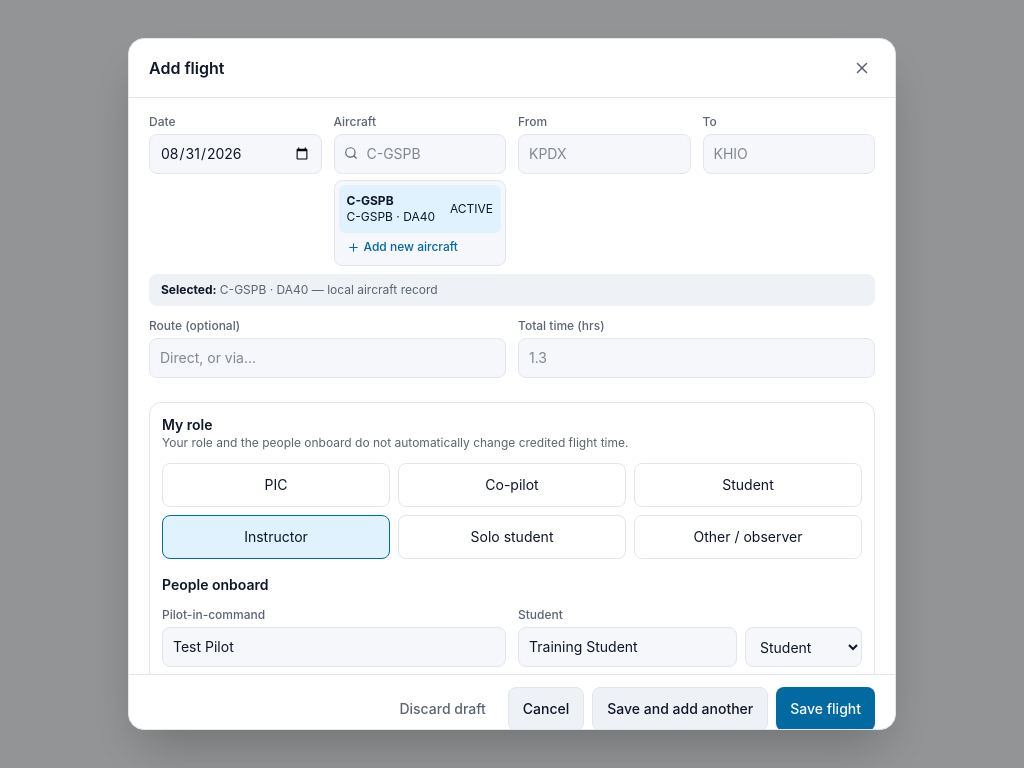
FlightFormModal automatic and manual times › updates instructor fields through the rendered form without repeated typing
Type "CEN4" into the field labelled "From".
click(604, 154); type("CEN4")  # box [518,134,690,174]
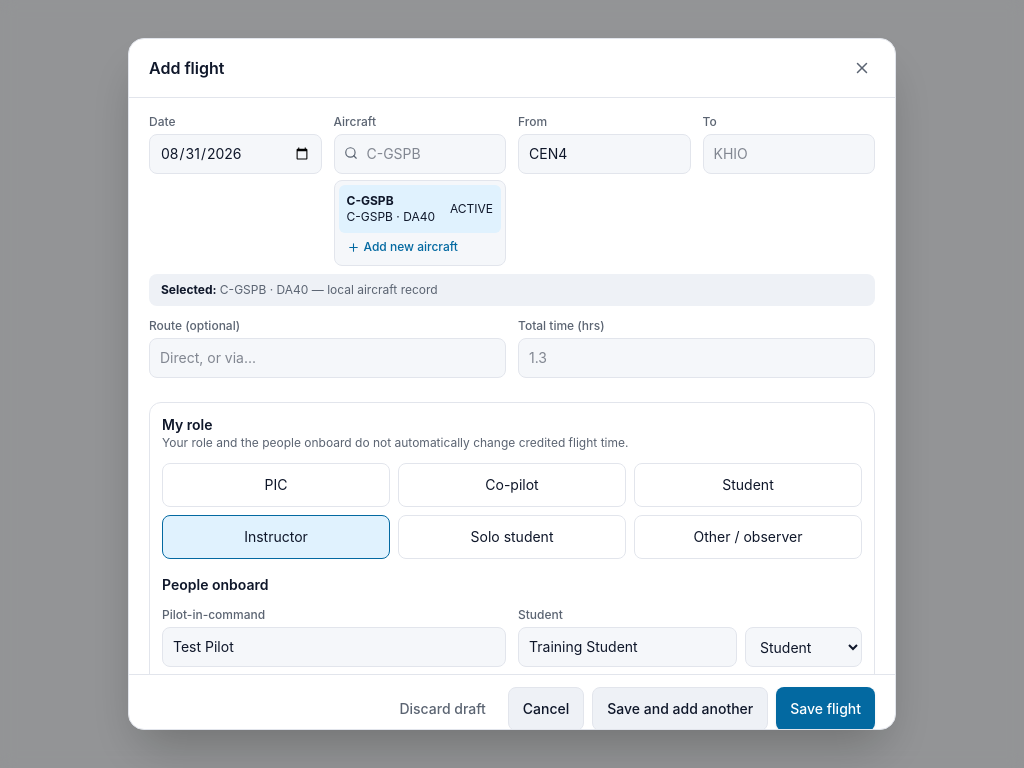
Type "CYBW" into the field labelled "To".
click(789, 154); type("CYBW")  # box [702,134,875,174]
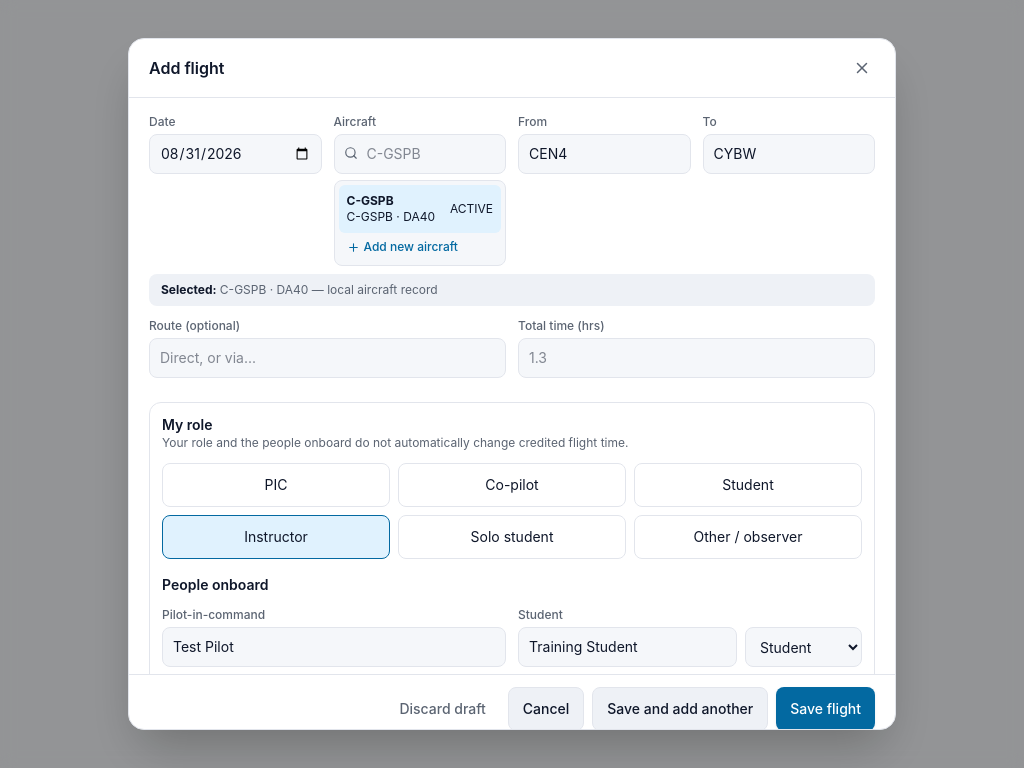
Type "1.2" into the number field labelled "Total time (hrs)".
click(696, 358); type("1.2")  # box [518,338,875,378]
(page scrolled)
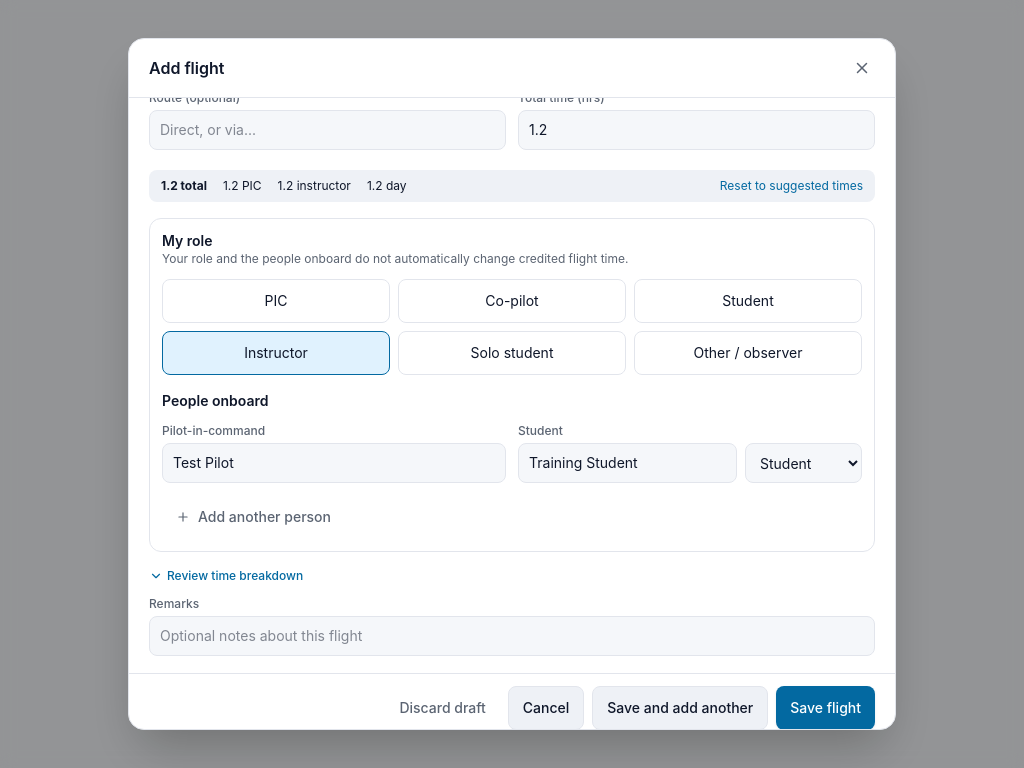
Click the button "Review time breakdown".
click(226, 576)  # box [149,568,303,584]
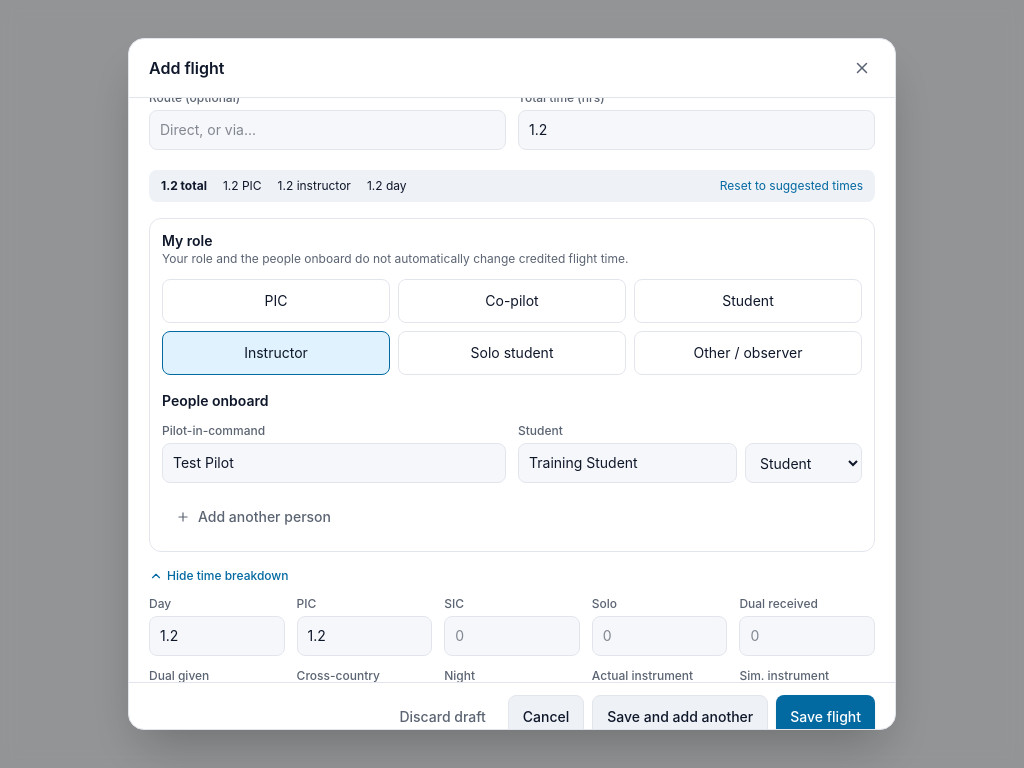
Expected: the number field labelled "PIC" holds "1.2", [297,616,432,656]
Expected: the number field labelled "Day" holds "1.2", [149,616,285,656]
